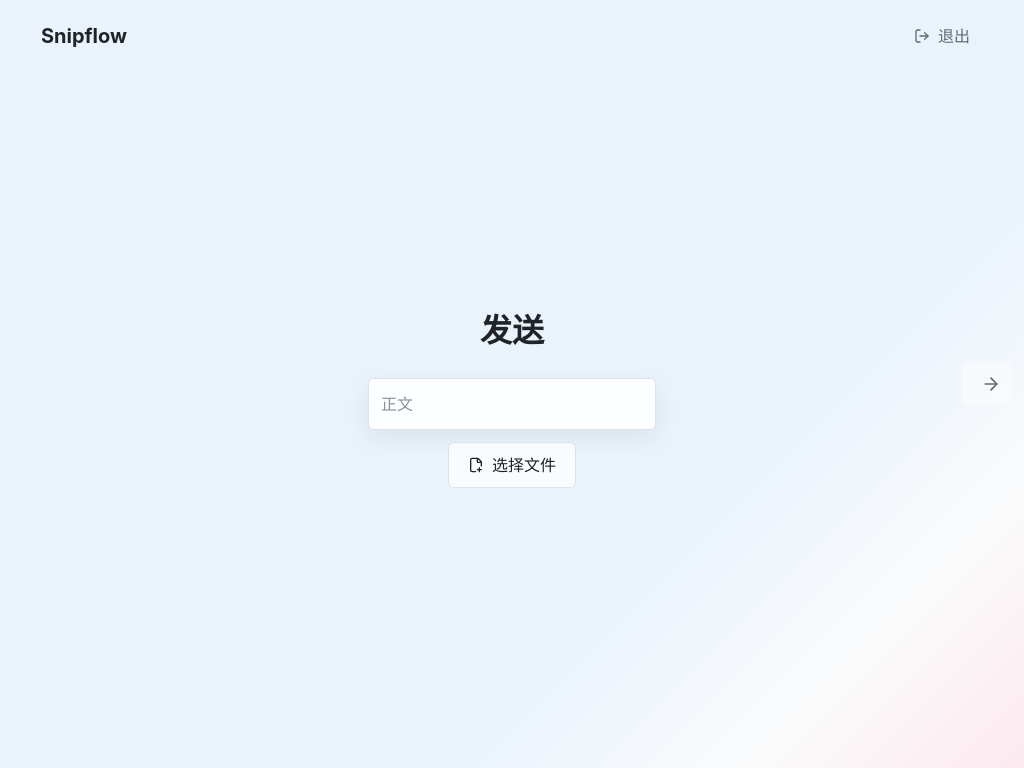
text transfer flow › keeps a rejected text draft after status 413
Type "12345678" into the text box labelled "正文" at x=512, y=404, box x1=368 y1=378 x2=656 y2=430
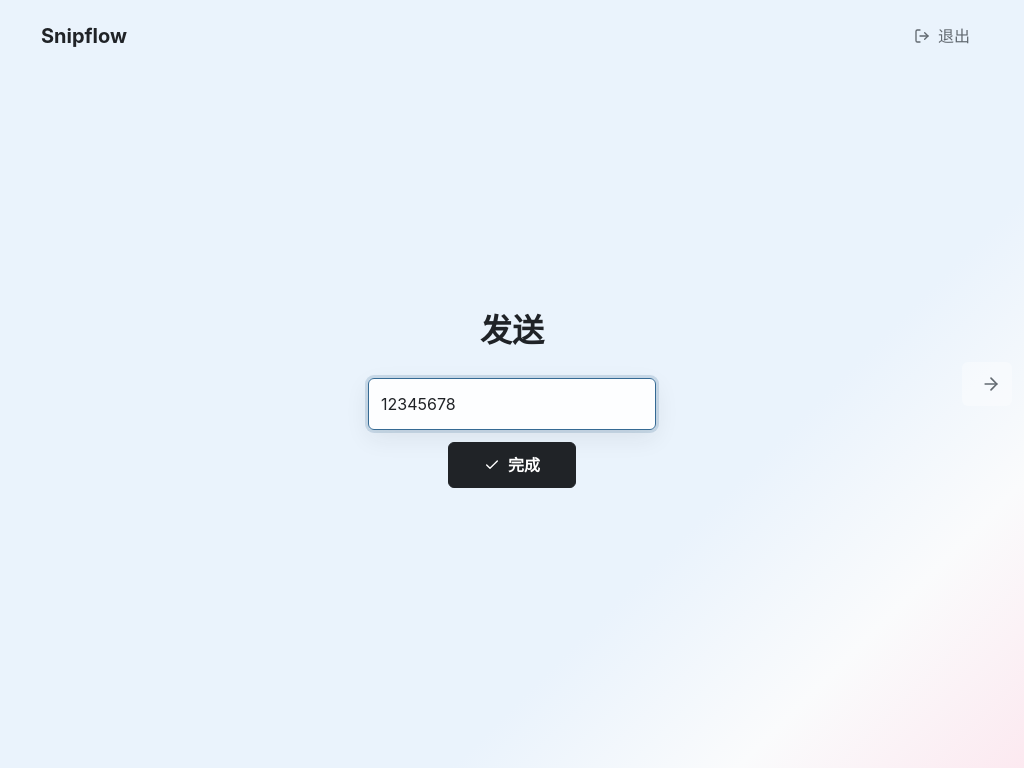
Click the button "完成" at x=512, y=465, box x1=448 y1=442 x2=576 y2=488
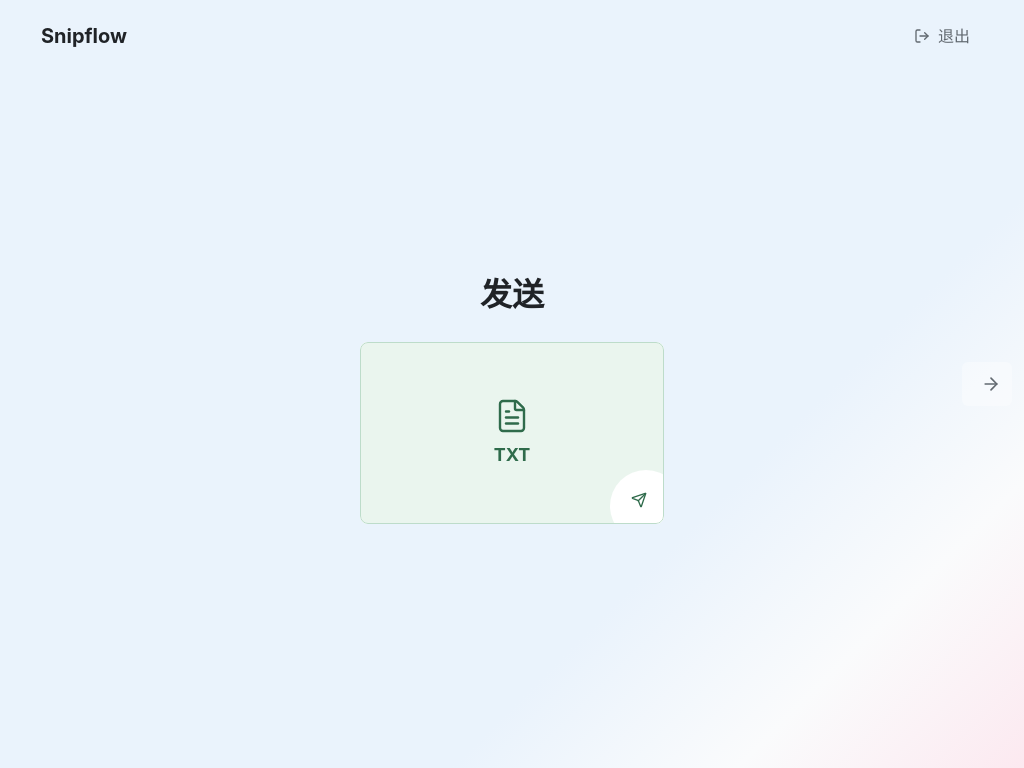
Click the button named "发送文本" at x=639, y=500, box x1=619 y1=480 x2=659 y2=520
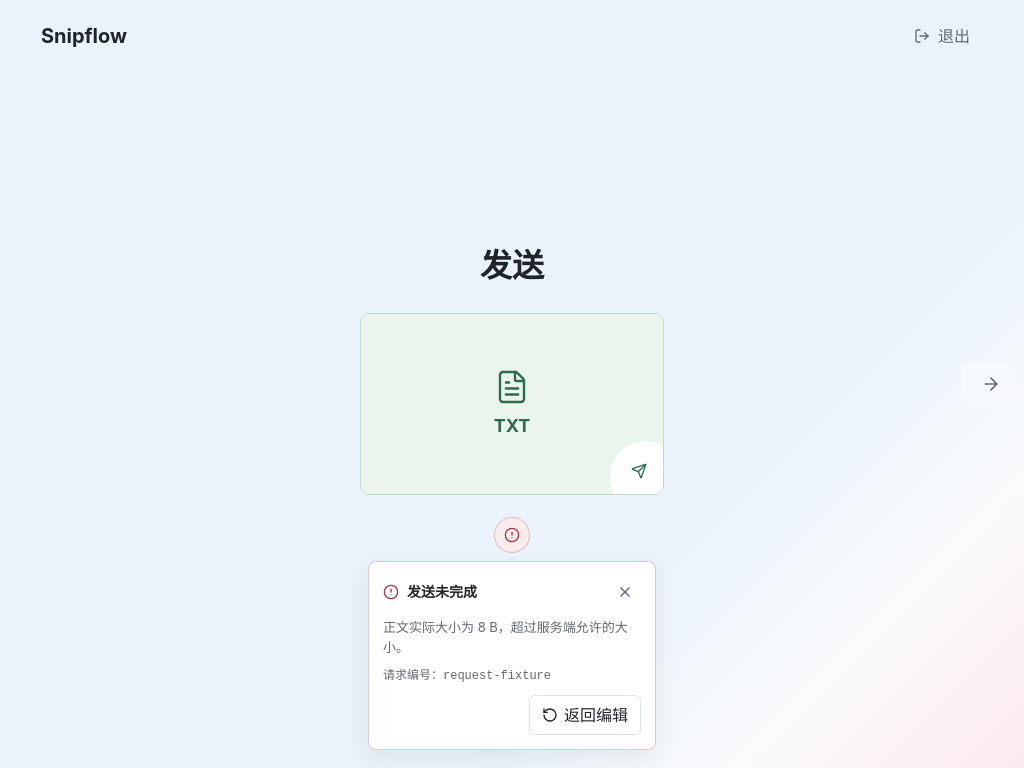
Now the text "正文实际大小为 8 B，超过服务端允许的大小。" is shown, box x1=383 y1=618 x2=641 y2=657
Click the button "返回编辑" at x=585, y=715, box x1=529 y1=695 x2=641 y2=735
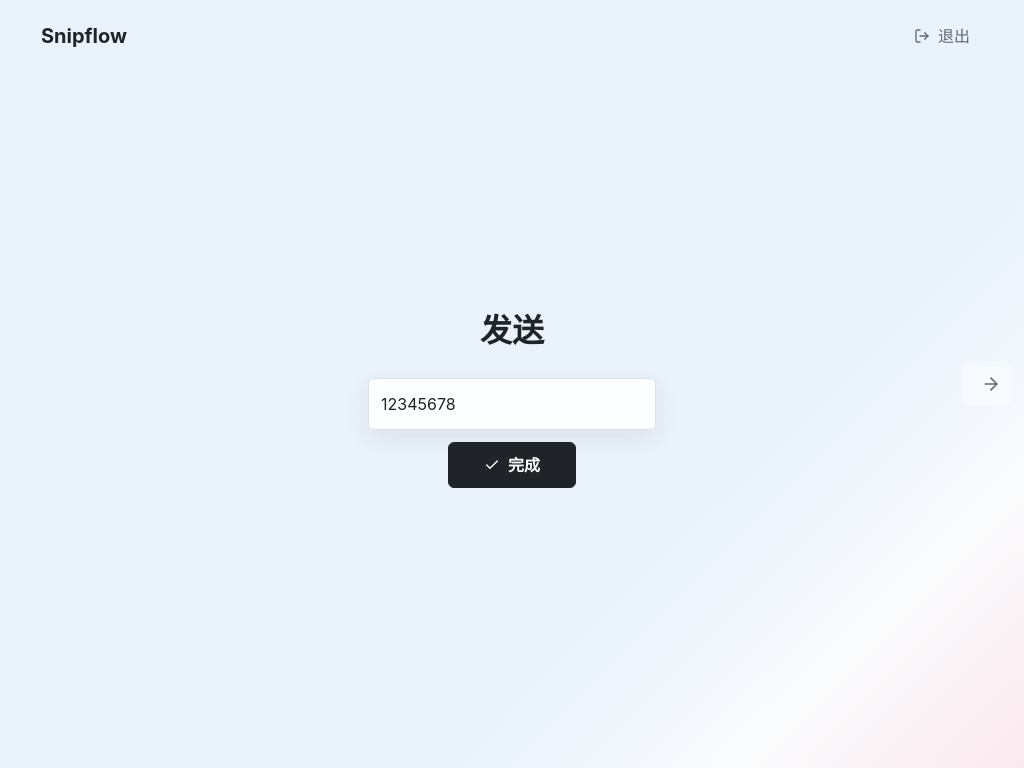
Now the text box named "正文" holds "12345678", box x1=368 y1=378 x2=656 y2=430
